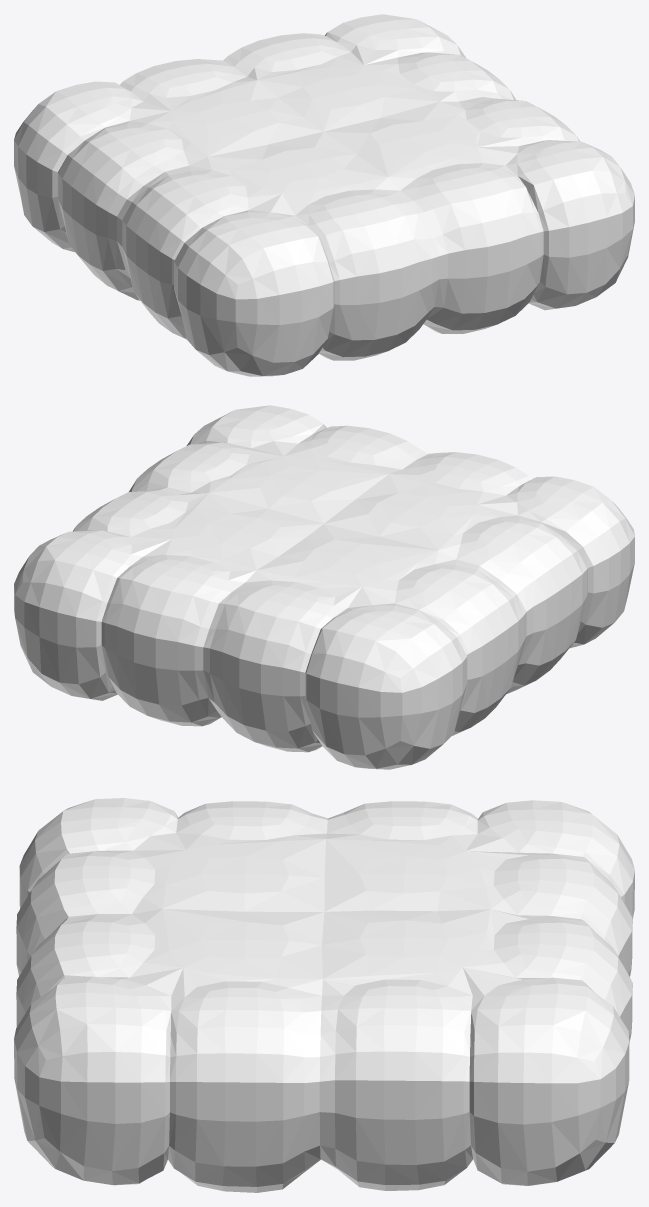
Rendered from BigCloudStep.obj.
3 renders of one model, top to bottom at view 1: azimuth 30°, elevation 25°; view 2: azimuth 150°, elevation 25°; view 3: azimuth 270°, elevation 25°, orthographic. The views are drawn at different scales.
Visible parts, largest first — view 1: n0b0; view 2: n0b0; view 3: n0b0.
Boxes of the visible parts, left/top/right/bottom form: n0b0: left=14, top=14, right=634, bottom=376; n0b0: left=14, top=405, right=634, bottom=769; n0b0: left=14, top=798, right=634, bottom=1192.
Bounding box in the file's own units: 2771 × 957 × 2768.
Materials: 1 (1 with a texture image).
